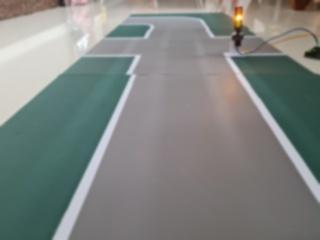yellow: (228, 1, 252, 35)
